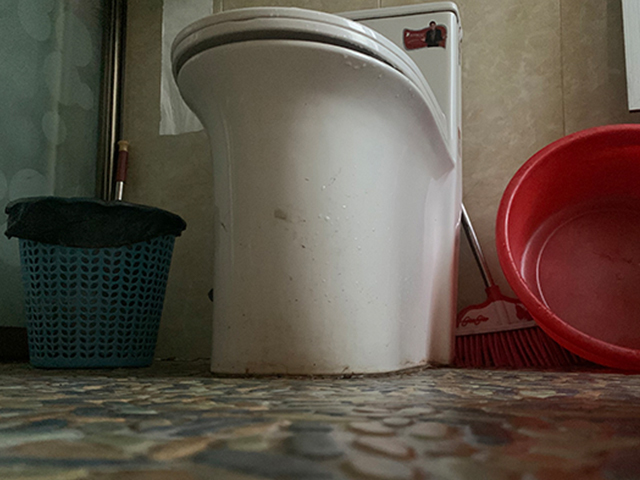closestool: (170, 1, 466, 377)
trashcan: (3, 195, 188, 371)
